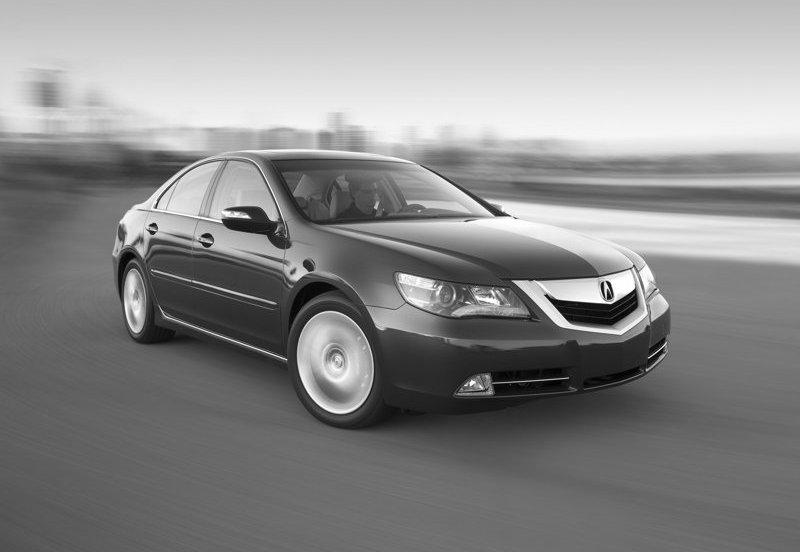car: (108, 147, 675, 434)
